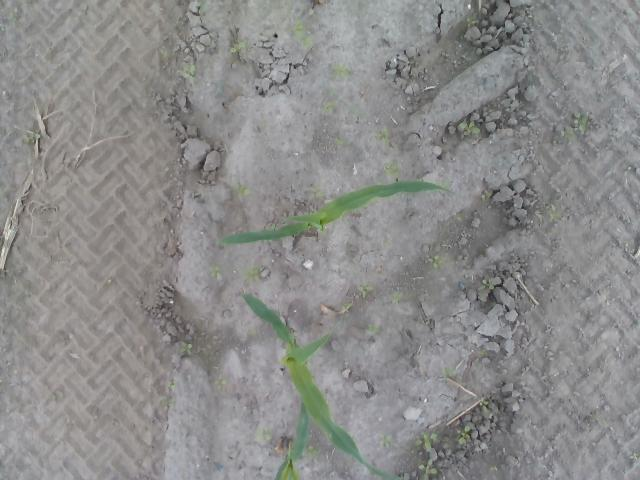Maize: (242, 290, 403, 480), (212, 180, 451, 247), (274, 399, 311, 480)
Weeds: (560, 110, 592, 142), (291, 14, 314, 47), (414, 430, 438, 451), (418, 458, 439, 480), (242, 266, 262, 283), (458, 120, 482, 134), (181, 63, 200, 80), (457, 424, 471, 446), (424, 254, 442, 271), (229, 38, 248, 54), (334, 64, 352, 80), (383, 162, 402, 176), (378, 432, 393, 449), (234, 184, 254, 196), (214, 374, 227, 392), (255, 429, 273, 442), (192, 0, 210, 13), (323, 100, 339, 114), (548, 204, 561, 220), (304, 445, 321, 457), (24, 130, 40, 142), (479, 278, 496, 289), (367, 323, 384, 334), (390, 291, 402, 305), (358, 281, 370, 294), (312, 185, 324, 198), (210, 265, 222, 278), (8, 6, 18, 20), (452, 211, 464, 222), (182, 343, 194, 354), (466, 15, 476, 28), (443, 368, 456, 376), (480, 190, 490, 200), (335, 136, 345, 146), (382, 128, 388, 144), (479, 398, 488, 407), (168, 383, 177, 391), (343, 303, 352, 310)
